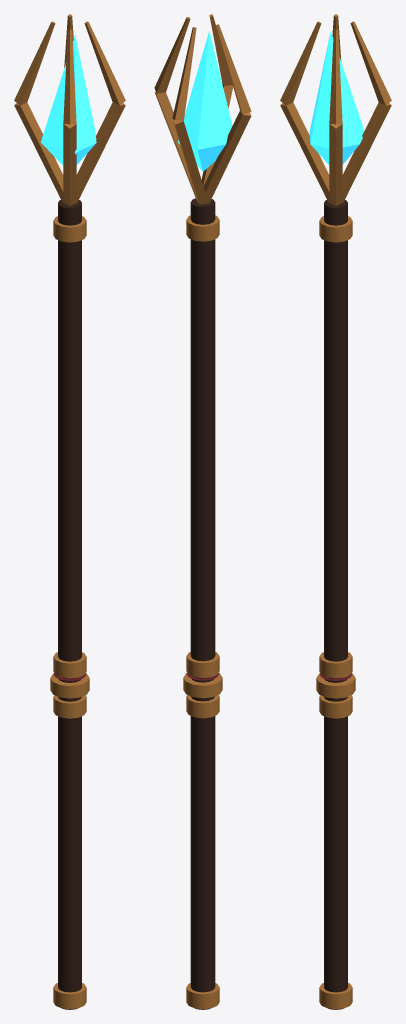
Rendered from arma_cajado_t2_cristal_bronze.glb.
3 renders of one model, left to right at view 1: azimuth 90°, elevation 25°; view 2: azimuth 150°, elevation 25°; view 3: azimuth 270°, elevation 25°, orthographic.
Visible parts, largest first — view 1: arma_cajado_t2_cristal_bronze; view 2: arma_cajado_t2_cristal_bronze; view 3: arma_cajado_t2_cristal_bronze.
Part boxes in pixels (x1,y1,x2,y2): arma_cajado_t2_cristal_bronze: (14, 14, 125, 1009); arma_cajado_t2_cristal_bronze: (154, 14, 251, 1009); arma_cajado_t2_cristal_bronze: (280, 14, 391, 1009).
Size of the model in its own units: 0.2025 by 1.96 by 0.2025.
